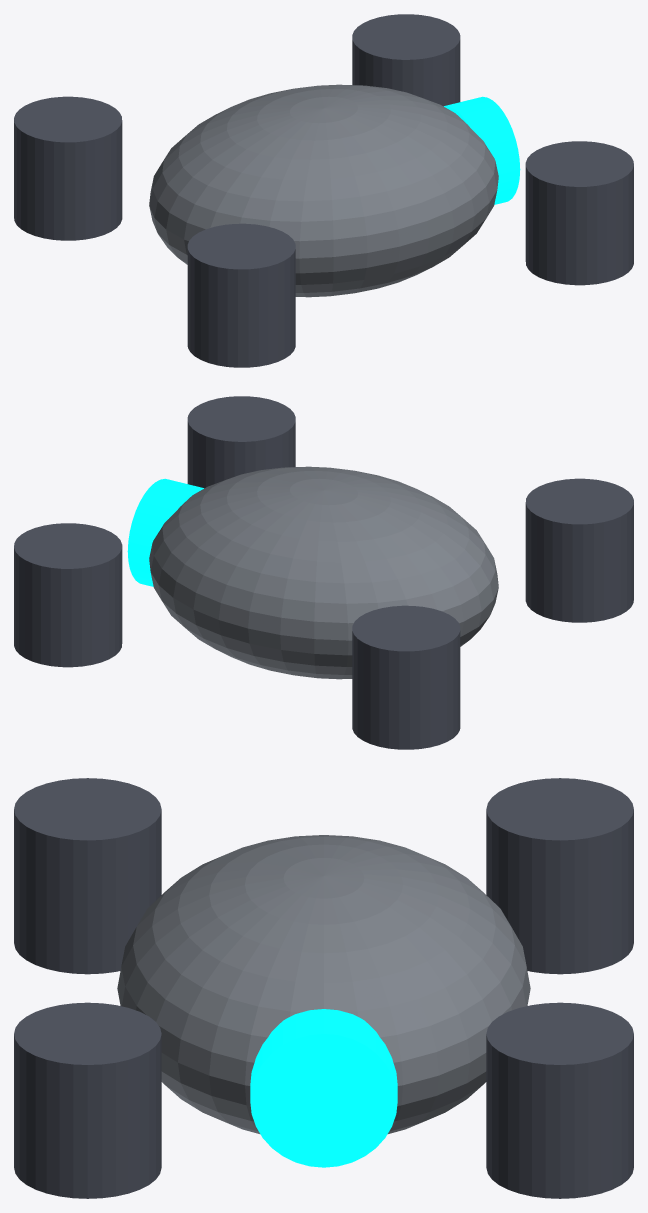
Rendered from drone.glb.
3 renders of one model, top to bottom at view 1: azimuth 30°, elevation 25°; view 2: azimuth 150°, elevation 25°; view 3: azimuth 270°, elevation 25°, orthographic. The views are drawn at different scales.
Parts seen in each view (by area): view 1: Sphere, Cylinder.001, Cylinder.003, Cylinder.005, Cylinder.007, Cylinder; view 2: Sphere, Cylinder.003, Cylinder.001, Cylinder.007, Cylinder.005, Cylinder; view 3: Sphere, Cylinder.005, Cylinder.007, Cylinder.001, Cylinder.003, Cylinder.
Boxes of the visible parts, x1,y1,x2,y2 form: Sphere: [149, 84, 498, 297]; Cylinder.001: [187, 223, 295, 367]; Cylinder.003: [14, 96, 122, 240]; Cylinder.005: [525, 141, 633, 285]; Cylinder.007: [352, 14, 460, 106]; Cylinder: [444, 96, 520, 204]; Sphere: [149, 466, 498, 679]; Cylinder.003: [352, 605, 460, 749]; Cylinder.001: [525, 478, 633, 622]; Cylinder.007: [14, 523, 122, 667]; Cylinder.005: [187, 396, 295, 488]; Cylinder: [127, 478, 203, 586]; Sphere: [117, 835, 530, 1133]; Cylinder.005: [14, 1002, 161, 1198]; Cylinder.007: [486, 1002, 633, 1198]; Cylinder.001: [14, 778, 161, 974]; Cylinder.003: [486, 778, 633, 974]; Cylinder: [250, 1009, 397, 1167].
Bounding box in the file's own units: 2.3 × 0.84 × 2.1.
